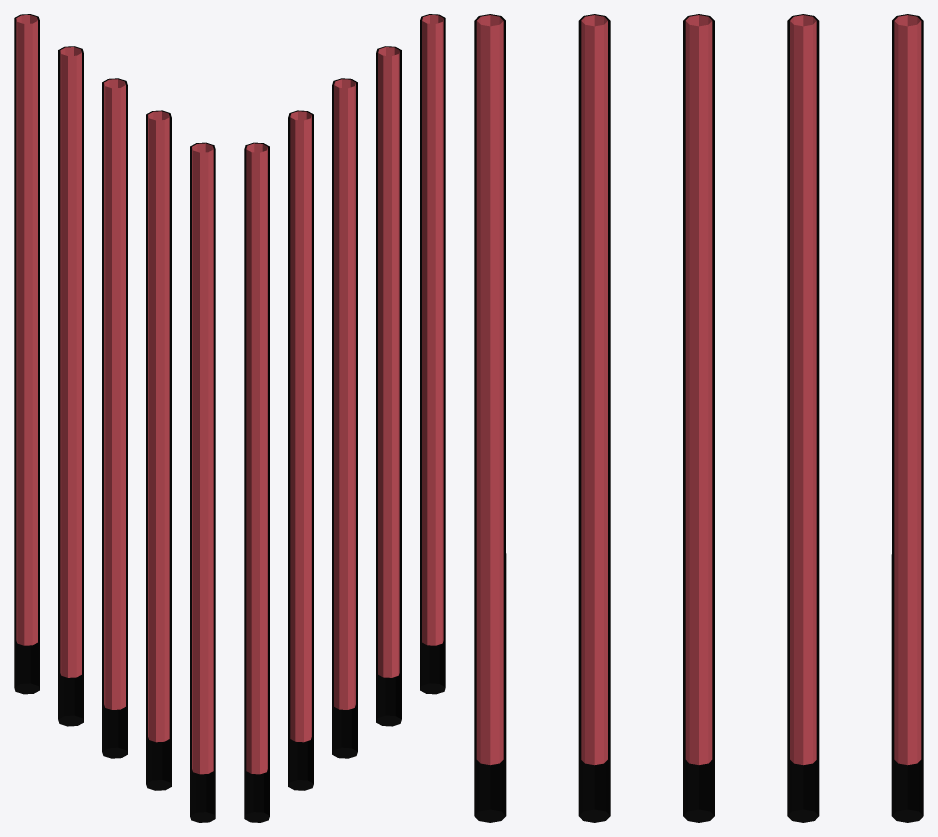
Rendered from Varetas Minigame.fbx.
The picture shows the model from 3 angles, left to right: view 1: azimuth 30°, elevation 25°; view 2: azimuth 150°, elevation 25°; view 3: azimuth 270°, elevation 25°; orthographic projection. The views are drawn at different scales.
Visible parts, largest first — view 1: Varetas; view 2: Varetas; view 3: Varetas.
Part boxes in pixels (x1,y1,x2,y2): Varetas: (14, 14, 215, 822); Varetas: (244, 14, 445, 822); Varetas: (474, 14, 923, 822).
Bounding box in the file's own units: 30.58 × 841 × 431.
